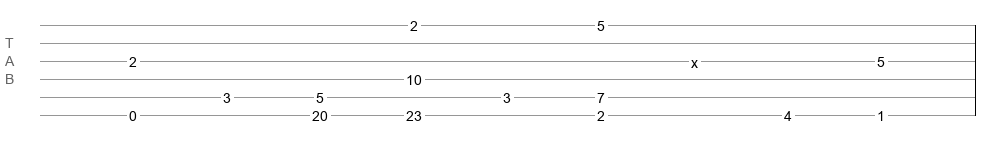0: (129, 108, 137, 118)
1: (877, 108, 885, 118)
10: (406, 72, 422, 82)
2: (129, 54, 137, 64), (410, 18, 418, 28), (597, 108, 605, 118)
20: (312, 108, 328, 118)
23: (406, 108, 422, 118)
3: (223, 90, 231, 100), (503, 90, 511, 100)
4: (784, 108, 792, 118)
5: (316, 90, 324, 100), (597, 18, 605, 28), (877, 54, 885, 64)
7: (597, 90, 605, 100)
x: (691, 55, 698, 63)
